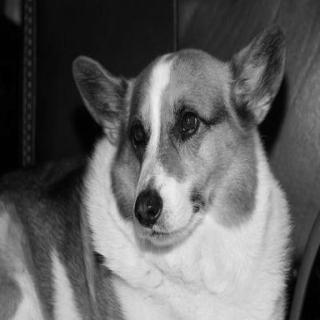dog: (70, 30, 287, 253)
nose: (128, 191, 164, 228)
